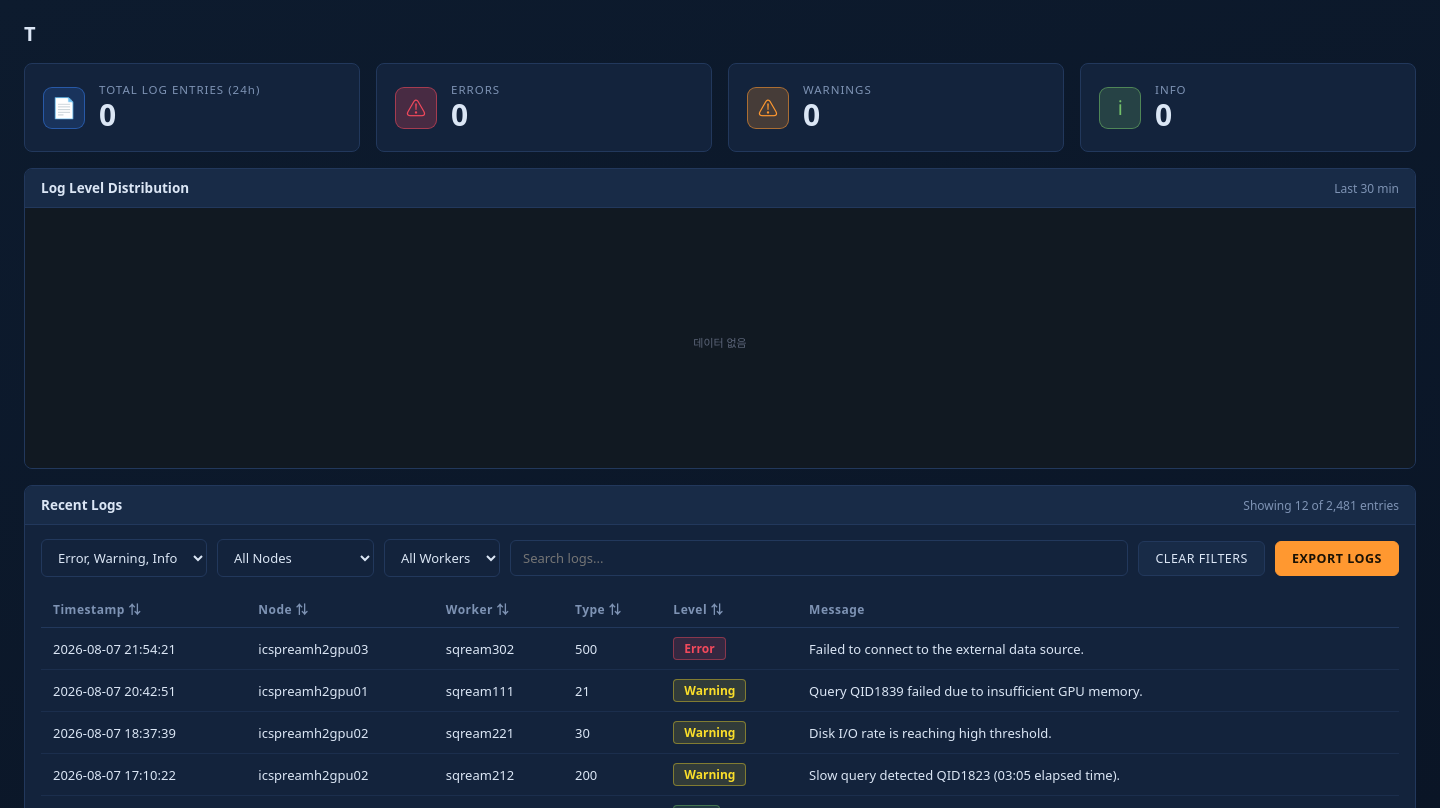
Test: Log Monitoring 화면 › CLEAR FILTERS가 모든 조건을 되돌린다
Select "Info" in the dropdown named "레벨" at (124, 558), box [41,539,207,577]
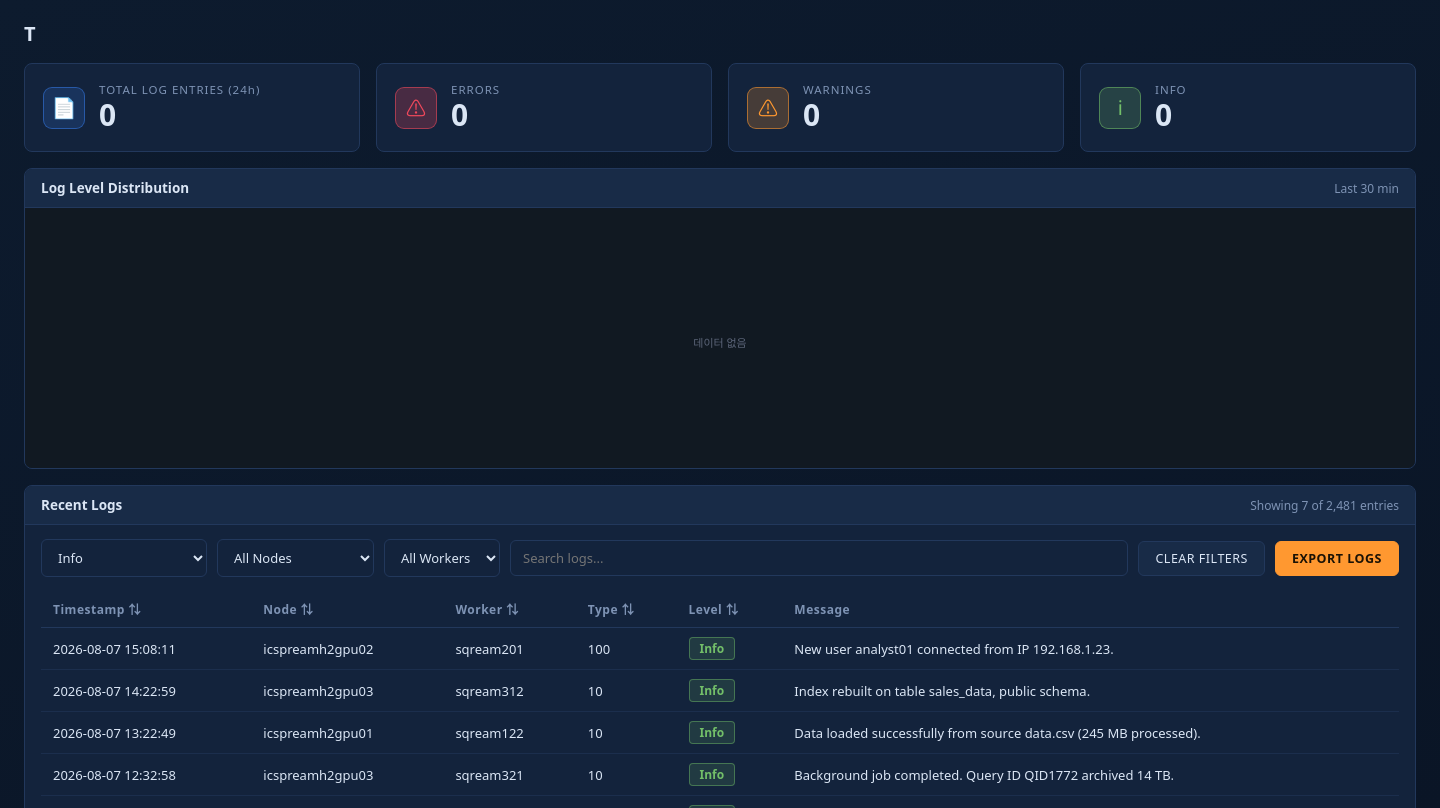
Type "worker" into the field named "로그 검색".
click(819, 558); type("worker")  # box [510,540,1128,576]
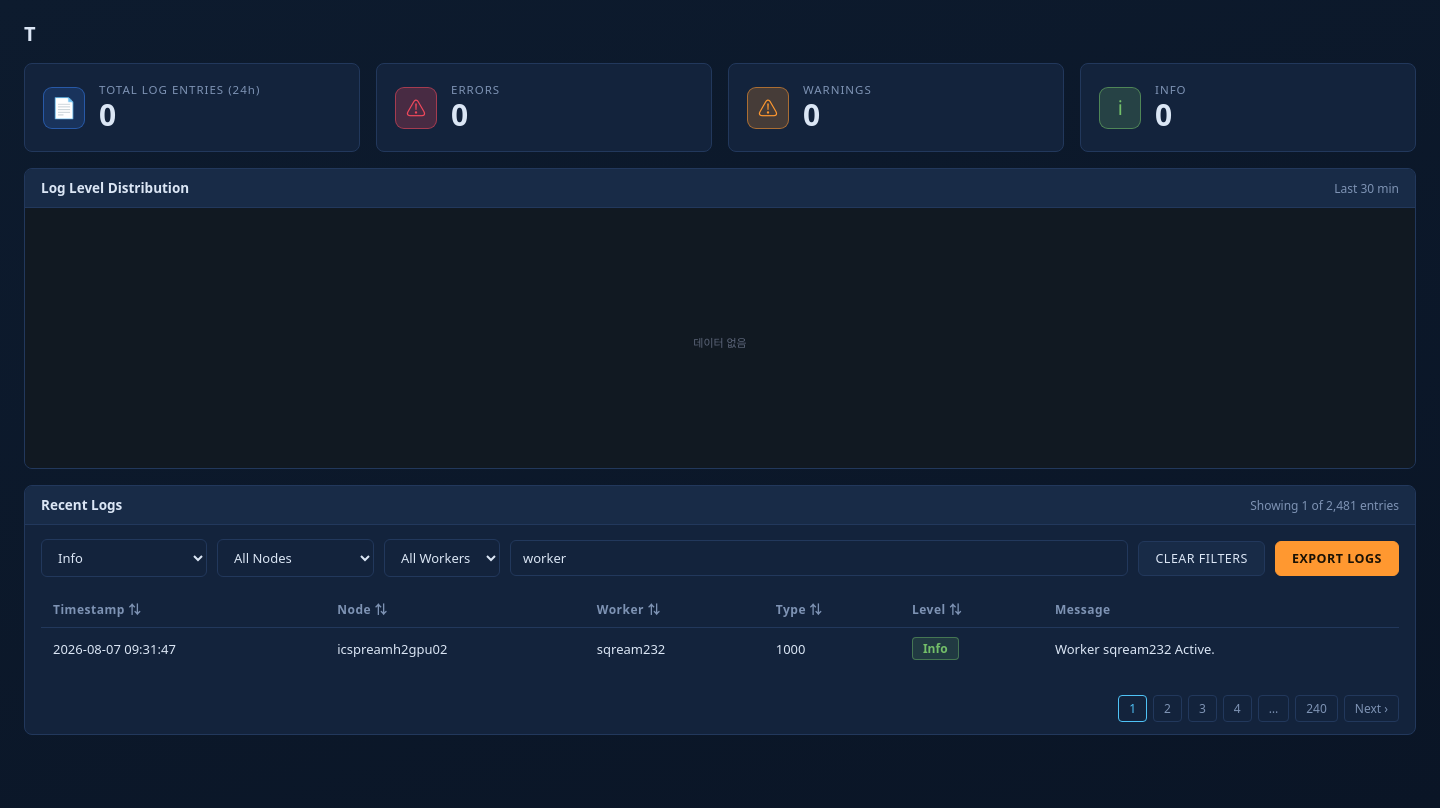
Expected: the text "Showing 1 of 2,481 entries" is shown, [1250,496,1399,514]
Click the button "CLEAR FILTERS".
click(1202, 558)  # box [1138,540,1265,576]
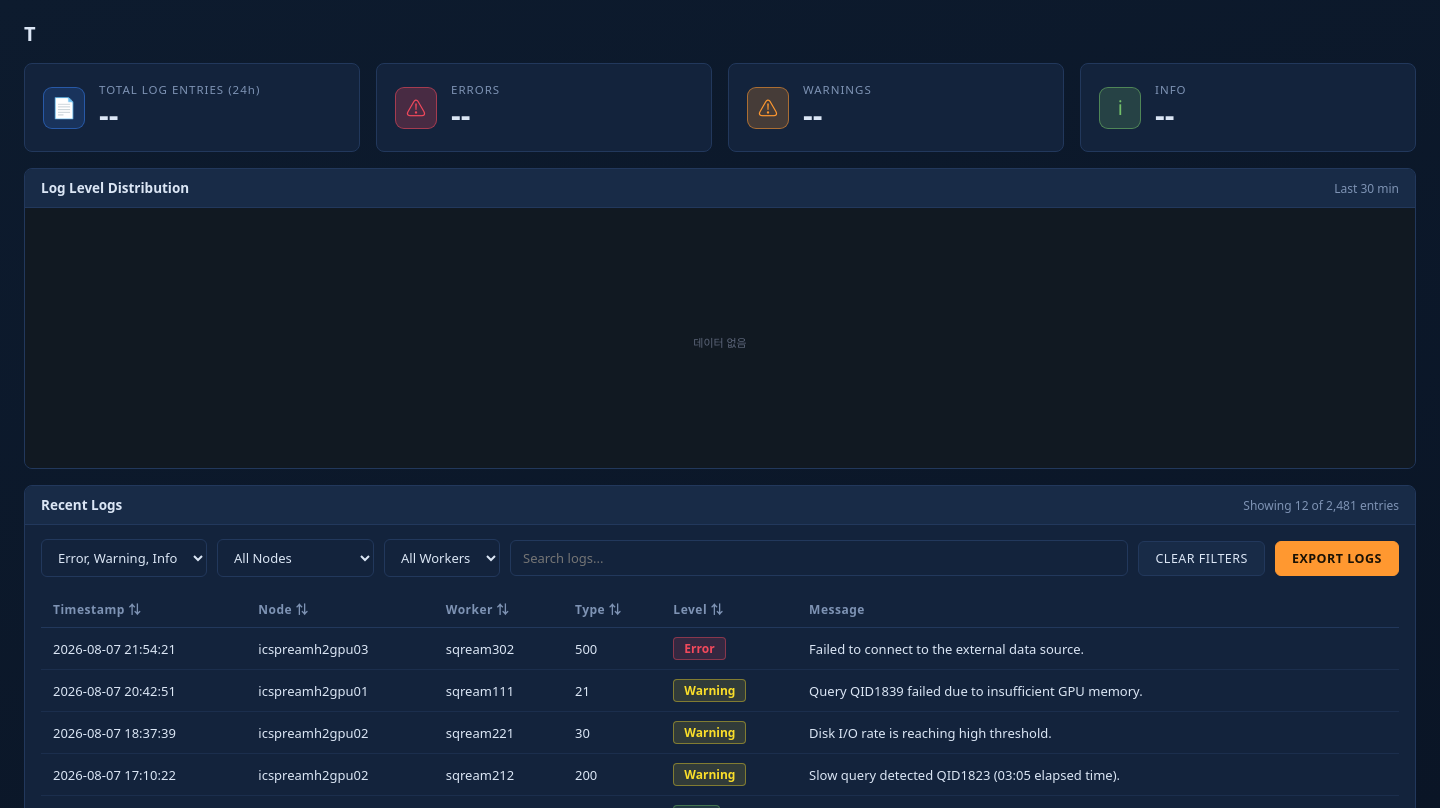
Expected: the text "Showing 12 of 2,481 entries" is shown, [1243,496,1399,514]
